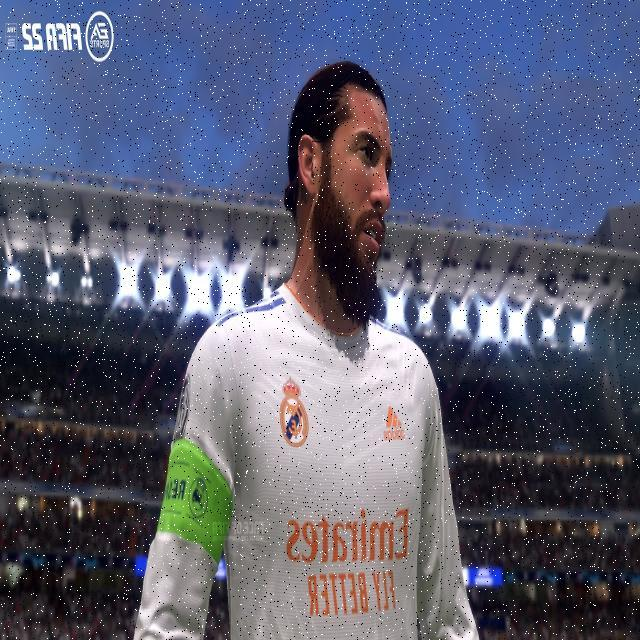Adidas: (384, 403, 405, 442)
Emirates: (286, 505, 412, 566)
